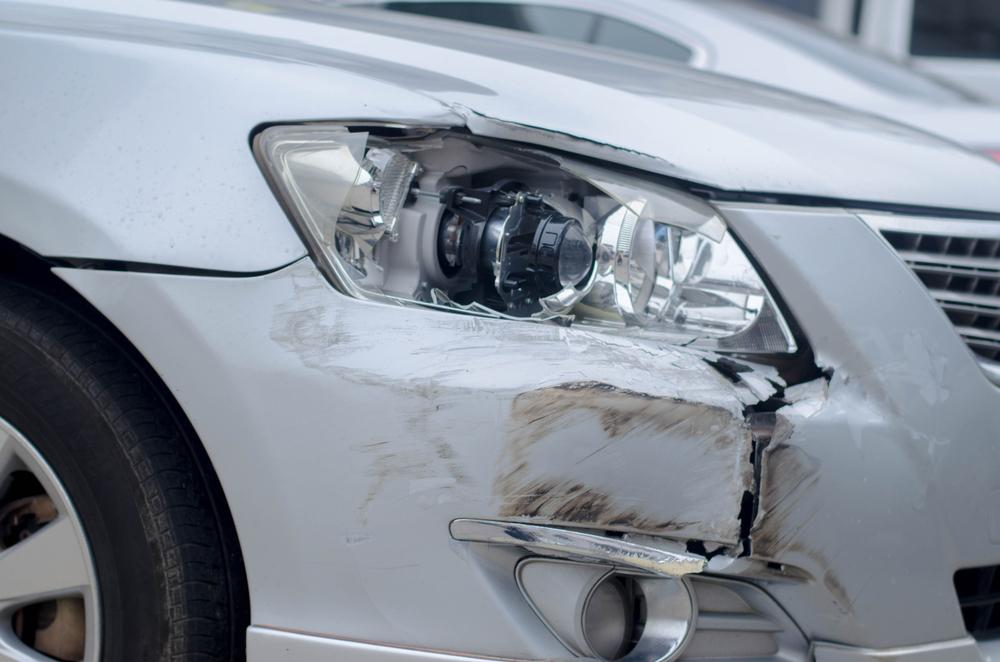crack: (735, 363, 835, 559), (702, 356, 755, 384), (685, 540, 730, 564)
lamp broken: (251, 122, 797, 357)
scratch: (264, 271, 746, 556), (752, 412, 861, 625)
